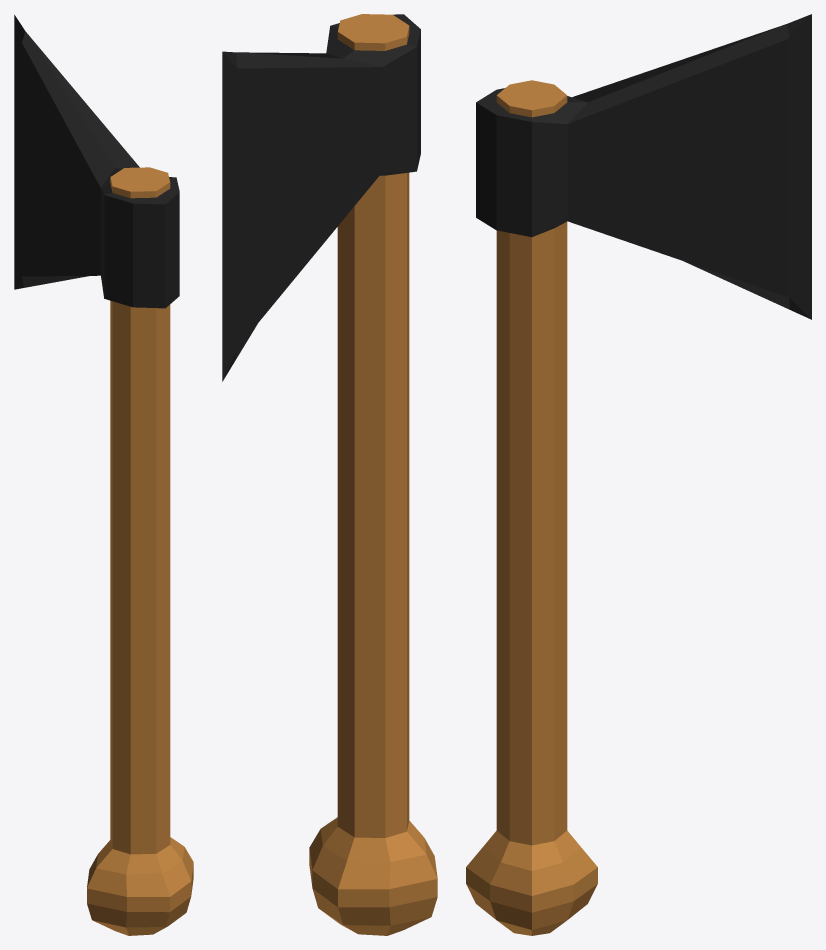
Rendered from BattleAxe.fbx.
3 views of the same model, side by side, from view 1: azimuth 30°, elevation 25°; view 2: azimuth 150°, elevation 25°; view 3: azimuth 270°, elevation 25° (orthographic). The views are drawn at different scales.
Parts seen in each view (by area): view 1: BattleAxe; view 2: BattleAxe; view 3: BattleAxe.
Boxes of the visible parts, bbox=[...] form: BattleAxe: bbox=[14, 14, 193, 935]; BattleAxe: bbox=[222, 14, 437, 935]; BattleAxe: bbox=[466, 14, 811, 935].
Size of the model in its own units: 77.34 by 566 by 195.
